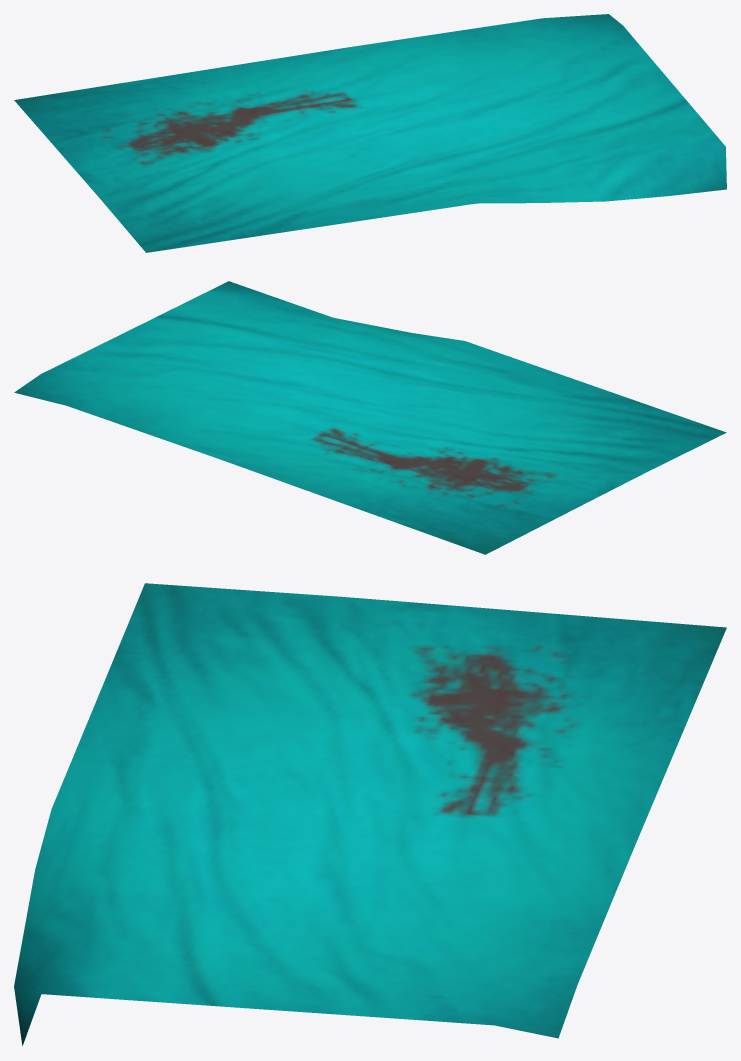
The model's file is surgical_cloth.FBX.
The picture shows the model from 3 angles, top to bottom: view 1: azimuth 30°, elevation 25°; view 2: azimuth 150°, elevation 25°; view 3: azimuth 270°, elevation 25°; orthographic projection. The views are drawn at different scales.
Parts seen in each view (by area): view 1: surgical_cloth; view 2: surgical_cloth; view 3: surgical_cloth.
Part boxes in pixels (bbox=[...]): surgical_cloth: bbox=[14, 14, 726, 252]; surgical_cloth: bbox=[14, 281, 726, 554]; surgical_cloth: bbox=[14, 583, 726, 1046].
Bounding box in the file's own units: 99.46 × 6.34 × 67.15.
